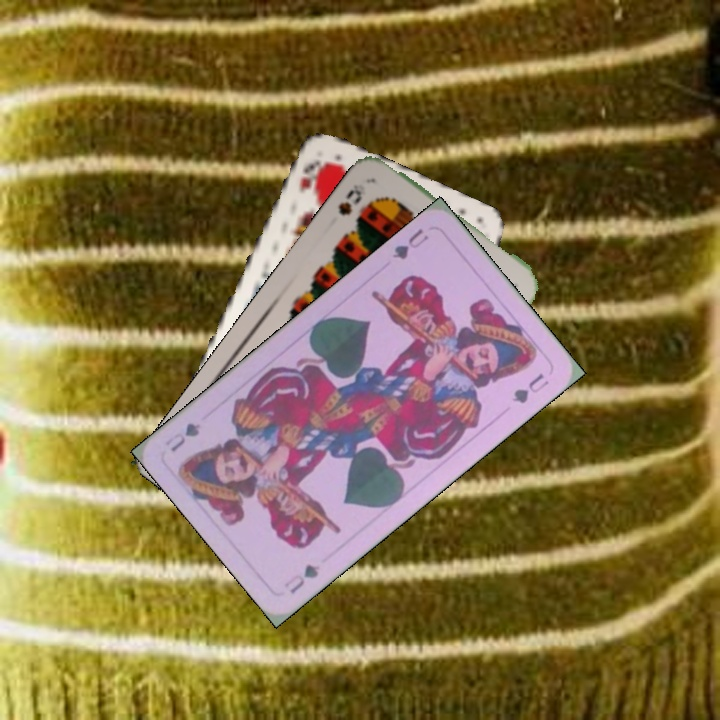GU: (388, 224, 431, 263), (279, 559, 323, 597)
HK: (295, 156, 324, 196)
S8: (333, 180, 365, 219)
